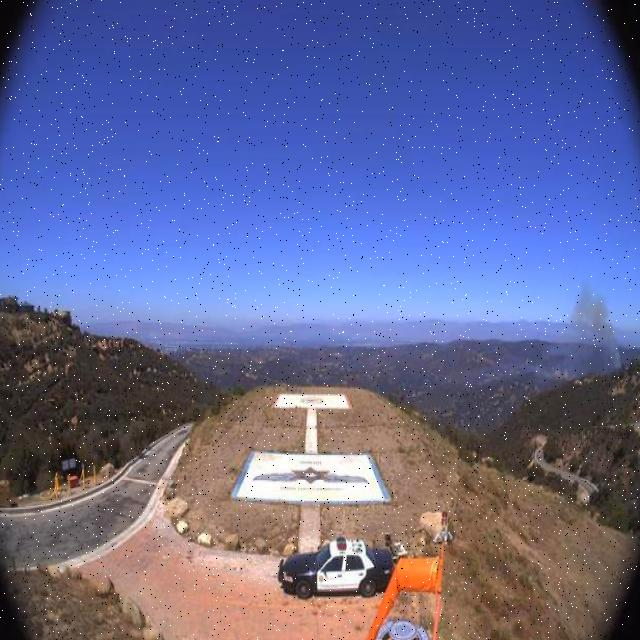smoke: (555, 278, 626, 384)
